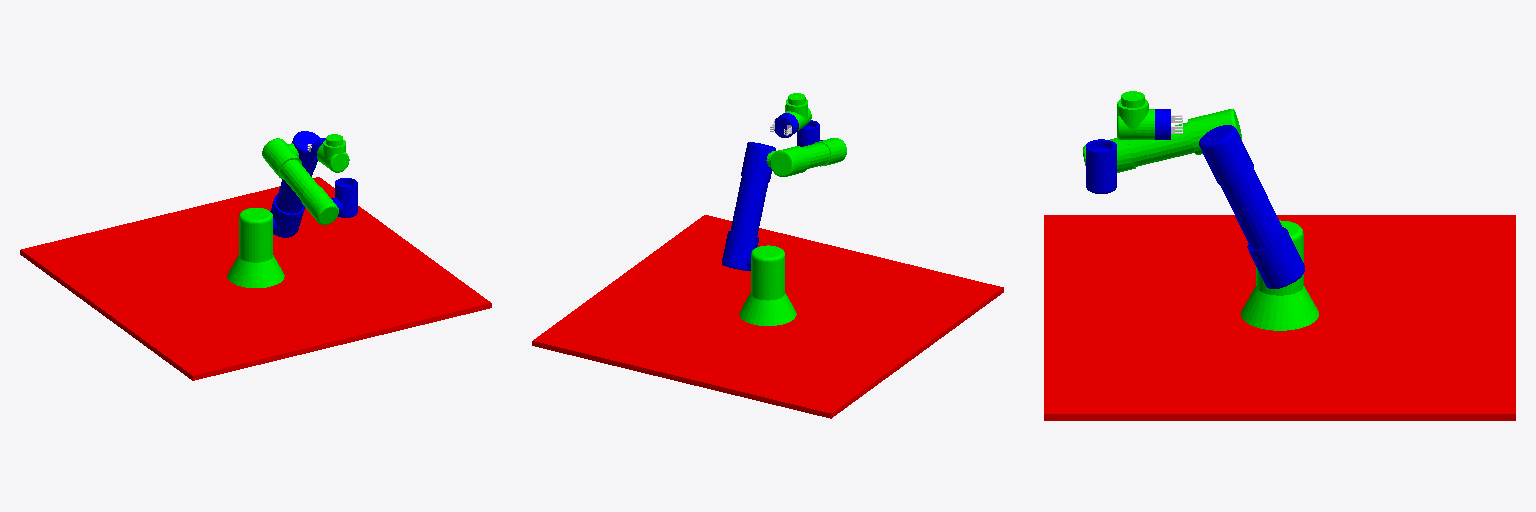
robot.urdf — myarm:
<robot
  name="myarm">
  <link
    name="base_link">
    <inertial>
      <origin
        xyz="3.511E-17 0.024867 -2.0937E-16"
        rpy="0 0 0" />
      <mass
        value="444.11" />
      <inertia
        ixx="337.5"
        ixy="3.394E-16"
        ixz="-3.6082E-14"
        iyy="674.82"
        iyz="1.2335E-17"
        izz="337.5" />
    </inertial>
    <visual>
      <origin
        xyz="0 0 0"
        rpy="0 0 0" />
      <geometry>
        <mesh
          filename="package://marm_description/meshes/base_link.STL" />
      </geometry>
      <material
        name="Red">
        <color
          rgba="1 0 0 1" />
      </material>
    </visual>
    <collision>
      <origin
        xyz="0 0 0"
        rpy="0 0 0" />
      <geometry>
        <mesh
          filename="package://marm_description/meshes/base_link.STL" />
      </geometry>
    </collision>
  </link>
  <link
    name="link1">
    <inertial>
      <origin
        xyz="3.491E-07 -0.0028335 -0.01492"
        rpy="0 0 0" />
      <mass
        value="57.966" />
      <inertia
        ixx="2.5483"
        ixy="-9.0628E-07"
        ixz="1.5304E-06"
        iyy="2.5639"
        iyz="-0.04354"
        izz="1.0444" />
    </inertial>
    <visual>
      <origin
        xyz="0 0 0"
        rpy="0 0 0" />
      <geometry>
        <mesh
          filename="package://marm_description/meshes/link1.STL" />
      </geometry>
      <material
        name="Green">
        <color
          rgba="0 1 0 1" />
      </material>
    </visual>
    <collision>
      <origin
        xyz="0 0 0"
        rpy="0 0 0" />
      <geometry>
        <mesh
          filename="package://marm_description/meshes/link1.STL" />
      </geometry>
    </collision>
  </link>
  <joint
    name="joint1"
    type="revolute">
    <origin
      xyz="0 0 0.25"
      rpy="3.1416 6.123E-17 1.5708" />
    <parent
      link="base_link" />
    <child
      link="link1" />
    <axis
      xyz="0 -1 0" />
    <limit
      lower="-2.96"
      upper="2.96"
      effort="300"
      velocity="1" />
    <dynamics
      damping="50"
      friction="1" />
  </joint>
  <link
    name="link2">
    <inertial>
      <origin
        xyz="0.004065 0.50746 -3.8173E-08"
        rpy="0 0 0" />
      <mass
        value="57.425" />
      <inertia
        ixx="6.4378"
        ixy="0.19841"
        ixz="-9.9298E-07"
        iyy="0.53245"
        iyz="2.3202E-06"
        izz="6.4921" />
    </inertial>
    <visual>
      <origin
        xyz="0 0 0"
        rpy="0 0 0" />
      <geometry>
        <mesh
          filename="package://marm_description/meshes/link2.STL" />
      </geometry>
      <material
        name="Blue">
        <color
          rgba="0 0 1 1" />
      </material>
    </visual>
    <collision>
      <origin
        xyz="0 0 0"
        rpy="0 0 0" />
      <geometry>
        <mesh
          filename="package://marm_description/meshes/link2.STL" />
      </geometry>
    </collision>
  </link>
  <joint
    name="joint2"
    type="revolute">
    <origin
      xyz="0.040377 0.29 -0.18851"
      rpy="-1.9864 0 -1.5708" />
    <parent
      link="link1" />
    <child
      link="link2" />
    <axis
      xyz="-1 0 0" />
    <limit
      lower="-2.35"
      upper="2.35"
      effort="300"
      velocity="1" />
    <dynamics
      damping="50"
      friction="1" />
  </joint>
  <link
    name="link3">
    <inertial>
      <origin
        xyz="0.0062688 0.45093 -4.6336E-09"
        rpy="0 0 0" />
      <mass
        value="38.36" />
      <inertia
        ixx="3.5596"
        ixy="0.1423"
        ixz="-1.1353E-06"
        iyy="0.27636"
        iyz="2.906E-07"
        izz="3.6045" />
    </inertial>
    <visual>
      <origin
        xyz="0 0 0"
        rpy="0 0 0" />
      <geometry>
        <mesh
          filename="package://marm_description/meshes/link3.STL" />
      </geometry>
      <material
        name="Green">
        <color
          rgba="0 1 0 1" />
      </material>
    </visual>
    <collision>
      <origin
        xyz="0 0 0"
        rpy="0 0 0" />
      <geometry>
        <mesh
          filename="package://marm_description/meshes/link3.STL" />
      </geometry>
    </collision>
  </link>
  <joint
    name="joint3"
    type="revolute">
    <origin
      xyz="0.27 0.9843 0.09876"
      rpy="-1.7284 0 3.1416" />
    <parent
      link="link2" />
    <child
      link="link3" />
    <axis
      xyz="1 0 0" />
    <limit
      lower="-2.62"
      upper="2.62"
      effort="300"
      velocity="1" />
    <dynamics
      damping="50"
      friction="1" />
  </joint>
  <link
    name="link4">
    <inertial>
      <origin
        xyz="8.6704E-09 -0.13203 -0.020954"
        rpy="0 0 0" />
      <mass
        value="10.038" />
      <inertia
        ixx="0.10563"
        ixy="-1.3415E-07"
        ixz="-4.5282E-08"
        iyy="0.071748"
        iyz="0.0067371"
        izz="0.082807" />
    </inertial>
    <visual>
      <origin
        xyz="0 0 0"
        rpy="0 0 0" />
      <geometry>
        <mesh
          filename="package://marm_description/meshes/link4.STL" />
      </geometry>
      <material
        name="Blue">
        <color
          rgba="0 0 1 1" />
      </material>
    </visual>
    <collision>
      <origin
        xyz="0 0 0"
        rpy="0 0 0" />
      <geometry>
        <mesh
          filename="package://marm_description/meshes/link4.STL" />
      </geometry>
    </collision>
  </link>
  <joint
    name="joint4"
    type="revolute">
    <origin
      xyz="0.23 0.92551 0.096691"
      rpy="1.5708 0.25798 1.5708" />
    <parent
      link="link3" />
    <child
      link="link4" />
    <axis
      xyz="-1 0 0" />
    <limit
      lower="-2.62"
      upper="2.62"
      effort="300"
      velocity="1" />
    <dynamics
      damping="50"
      friction="1" />
  </joint>
  <link
    name="link5">
    <inertial>
      <origin
        xyz="1.1124E-08 0.10421 0.041487"
        rpy="0 0 0" />
      <mass
        value="9.417" />
      <inertia
        ixx="0.087332"
        ixy="2.1223E-08"
        ixz="-5.3766E-09"
        iyy="0.08101"
        iyz="0.001687"
        izz="0.055716" />
    </inertial>
    <visual>
      <origin
        xyz="0 0 0"
        rpy="0 0 0" />
      <geometry>
        <mesh
          filename="package://marm_description/meshes/link5.STL" />
      </geometry>
      <material
        name="Green">
        <color
          rgba="0 1 0 1" />
      </material>
    </visual>
    <collision>
      <origin
        xyz="0 0 0"
        rpy="0 0 0" />
      <geometry>
        <mesh
          filename="package://marm_description/meshes/link5.STL" />
      </geometry>
    </collision>
  </link>
  <joint
    name="joint5"
    type="revolute">
    <origin
      xyz="-0.1 -0.45 0"
      rpy="1.5708 -1.5708 0" />
    <parent
      link="link4" />
    <child
      link="link5" />
    <axis
      xyz="0 1 0" />
    <limit
      lower="-2.62"
      upper="2.62"
      effort="300"
      velocity="1" />
    <dynamics
      damping="50"
      friction="1" />
  </joint>
  <link
    name="link6">
    <inertial>
      <origin
        xyz="0 0.076204 0"
        rpy="0 0 0" />
      <mass
        value="3.6844" />
      <inertia
        ixx="0.015237"
        ixy="2.7768E-19"
        ixz="6.8501E-20"
        iyy="0.016852"
        iyz="-1.594E-18"
        izz="0.013643" />
    </inertial>
    <visual>
      <origin
        xyz="0 0 0"
        rpy="0 0 0" />
      <geometry>
        <mesh
          filename="package://marm_description/meshes/link6.STL" />
      </geometry>
      <material
        name="Blue">
        <color
          rgba="0 0 1 1" />
      </material>
    </visual>
    <collision>
      <origin
        xyz="0 0 0"
        rpy="0 0 0" />
      <geometry>
        <mesh
          filename="package://marm_description/meshes/link6.STL" />
      </geometry>
    </collision>
  </link>
  <joint
    name="joint6"
    type="revolute">
    <origin
      xyz="0 0.19 0"
      rpy="3.1416 0 3.1416" />
    <parent
      link="link5" />
    <child
      link="link6" />
    <axis
      xyz="0 0 1" />
    <limit
      lower="-6.28"
      upper="6.28"
      effort="300"
      velocity="1" />
    <dynamics
      damping="50"
      friction="1" />
  </joint>
  <link
    name="gripper_finger_link1">
    <inertial>
      <origin
        xyz="-0.0045948 0 -0.018054"
        rpy="0 0 0" />
      <mass
        value="0.1382" />
      <inertia
        ixx="9.1673E-05"
        ixy="-1.3832E-19"
        ixz="-2.4411E-05"
        iyy="0.00022117"
        iyz="2.0172E-20"
        izz="0.00025212" />
    </inertial>
    <visual>
      <origin
        xyz="0 0 0"
        rpy="0 0 0" />
      <geometry>
        <mesh
          filename="package://marm_description/meshes/gripper_finger_link1.STL" />
      </geometry>
      <material
        name="White">
        <color
          rgba="1 1 1 1" />
      </material>
    </visual>
    <collision>
      <origin
        xyz="0 0 0"
        rpy="0 0 0" />
      <geometry>
        <mesh
          filename="package://marm_description/meshes/gripper_finger_link1.STL" />
      </geometry>
    </collision>
  </link>
  <joint
    name="finger_joint1"
    type="prismatic">
    <origin
      xyz="-0.09 0.15 0"
      rpy="-1.5708 0 1.5708" />
    <parent
      link="link6" />
    <child
      link="gripper_finger_link1" />
    <axis
      xyz="-1 0 0" />
    <limit
      lower="0"
      upper="0.05"
      effort="100"
      velocity="1" />
    <dynamics
      damping="50"
      friction="1" />
  </joint>
  <link
    name="gripper_finger_link2">
    <inertial>
      <origin
        xyz="-0.0045948 2.2204E-16 -0.018054"
        rpy="0 0 0" />
      <mass
        value="0.1382" />
      <inertia
        ixx="9.1673E-05"
        ixy="-7.1888E-22"
        ixz="-2.4411E-05"
        iyy="0.00022117"
        iyz="4.622E-20"
        izz="0.00025212" />
    </inertial>
    <visual>
      <origin
        xyz="0 0 0"
        rpy="0 0 0" />
      <geometry>
        <mesh
          filename="package://marm_description/meshes/gripper_finger_link2.STL" />
      </geometry>
      <material
        name="White">
        <color
          rgba="1 1 1 1" />
      </material>
    </visual>
    <collision>
      <origin
        xyz="0 0 0"
        rpy="0 0 0" />
      <geometry>
        <mesh
          filename="package://marm_description/meshes/gripper_finger_link2.STL" />
      </geometry>
    </collision>
  </link>
  <joint
    name="finger_joint2"
    type="prismatic">
    <origin
      xyz="0.09 0.15 0"
      rpy="1.5708 0 1.5708" />
    <parent
      link="link6" />
    <child
      link="gripper_finger_link2" />
    <axis
      xyz="1 0 0" />
    <limit
      lower="0"
      upper="0.05"
      effort="100"
      velocity="1" />
    <dynamics
      damping="50"
      friction="1" />
  </joint>
</robot>

--- Render facts (derived) ---
Views: 3 orthographic renders of the robot side by side, from view 1: azimuth 30°, elevation 25°; view 2: azimuth 150°, elevation 25°; view 3: azimuth 270°, elevation 25°.
Model myarm with 9 links and 8 joints (6 revolute, 2 prismatic), rooted at base_link, posed all joints at 0.
Visible links, largest first — view 1: base_link, link1, link3, link2, link5, link4; view 2: base_link, link2, link1, link3, link5; view 3: base_link, link2, link1, link3, link5, link4.
Link boxes in pixels (x1,y1,x2,y2): base_link: (20,177,491,380); link1: (227,208,284,287); link3: (262,138,338,224); link2: (270,131,319,237); link5: (317,134,349,172); link4: (331,178,357,217); base_link: (532,215,1003,418); link2: (722,142,775,270); link1: (739,245,796,325); link3: (766,138,846,176); link5: (783,93,811,130); base_link: (1044,215,1515,420); link2: (1199,125,1304,288); link1: (1241,220,1318,330); link3: (1083,109,1241,172); link5: (1117,91,1154,139); link4: (1086,139,1116,193).
Bounding box of the posed robot: 3 × 3 × 1.7 m (x, y, z).
9 mesh visuals loaded from 9 distinct referenced files (9 binary STL).